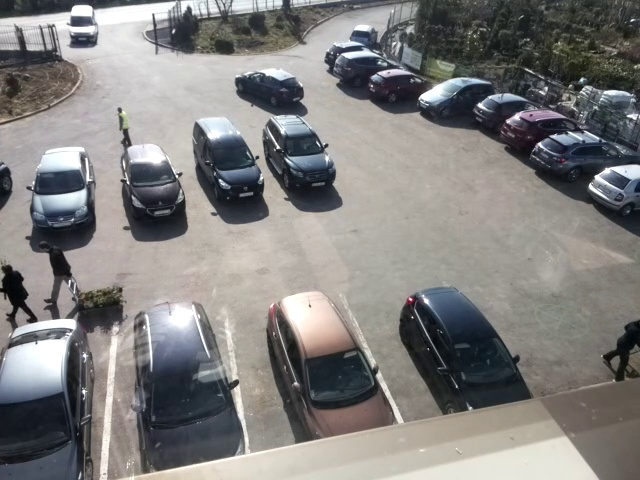car: (134, 302, 246, 474), (268, 292, 395, 438), (399, 287, 533, 416), (1, 320, 96, 480), (194, 116, 267, 202), (529, 130, 640, 184), (31, 147, 98, 229), (262, 115, 335, 190), (120, 143, 186, 223), (498, 108, 593, 152), (416, 78, 498, 117), (470, 91, 546, 128), (235, 68, 304, 108), (333, 52, 410, 87), (588, 163, 640, 212), (367, 70, 436, 101), (326, 44, 385, 67), (68, 3, 100, 43), (351, 24, 380, 46)
